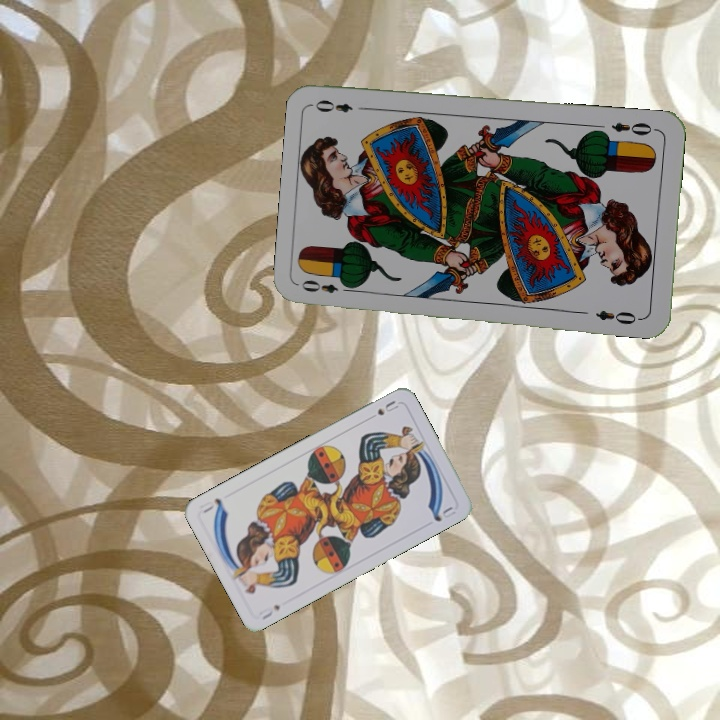EO: (297, 276, 356, 296), (607, 118, 659, 138)
SU: (373, 396, 401, 418), (255, 600, 283, 622)
